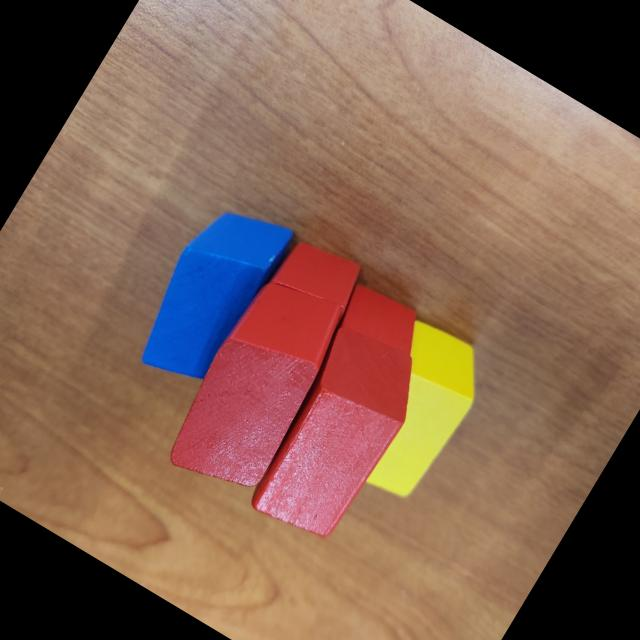blue: (120, 187, 300, 401)
red: (154, 264, 364, 514), (235, 316, 436, 555), (248, 226, 371, 354), (320, 276, 432, 387)
yellow: (329, 314, 499, 512)
